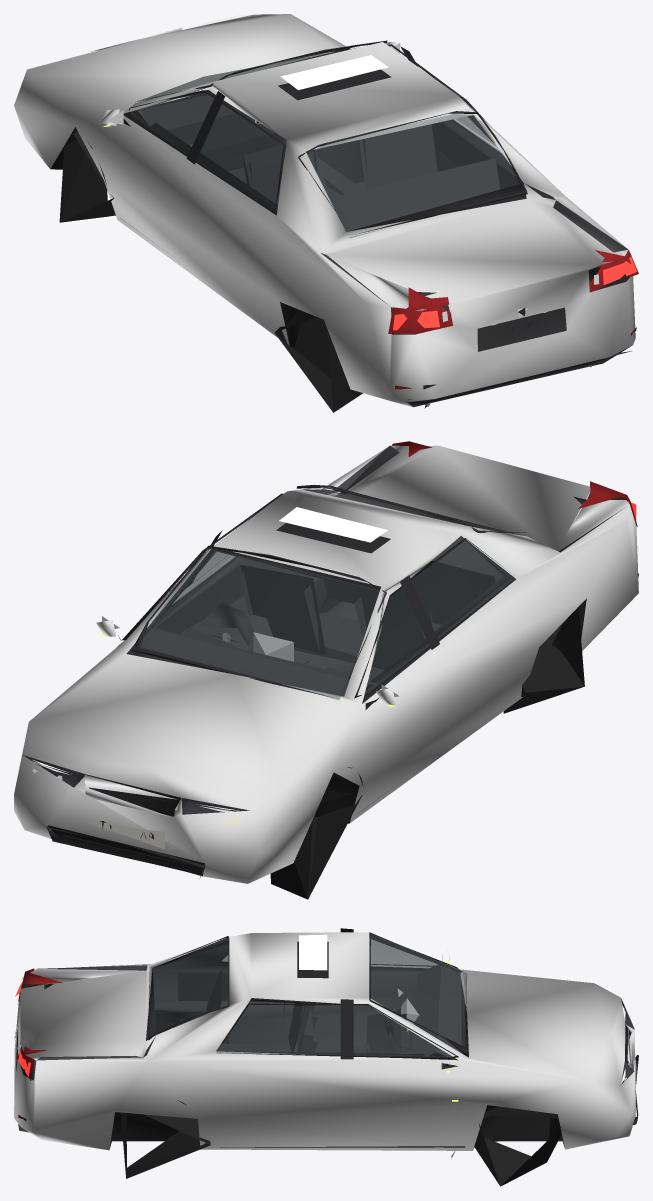
Rendered from civ_taxi_lod1.glb.
3 views of the same model, one above another, from view 1: azimuth 30°, elevation 25°; view 2: azimuth 150°, elevation 25°; view 3: azimuth 270°, elevation 25° (orthographic). The views are drawn at different scales.
Parts seen in each view (by area): view 1: civ_taxi.001; view 2: civ_taxi.001; view 3: civ_taxi.001.
Boxes of the visible parts, bbox=[...] form: civ_taxi.001: bbox=[14, 14, 638, 412]; civ_taxi.001: bbox=[14, 441, 638, 899]; civ_taxi.001: bbox=[14, 928, 638, 1186].
Size of the model in its own units: 2.08 by 1.58 by 4.79.
